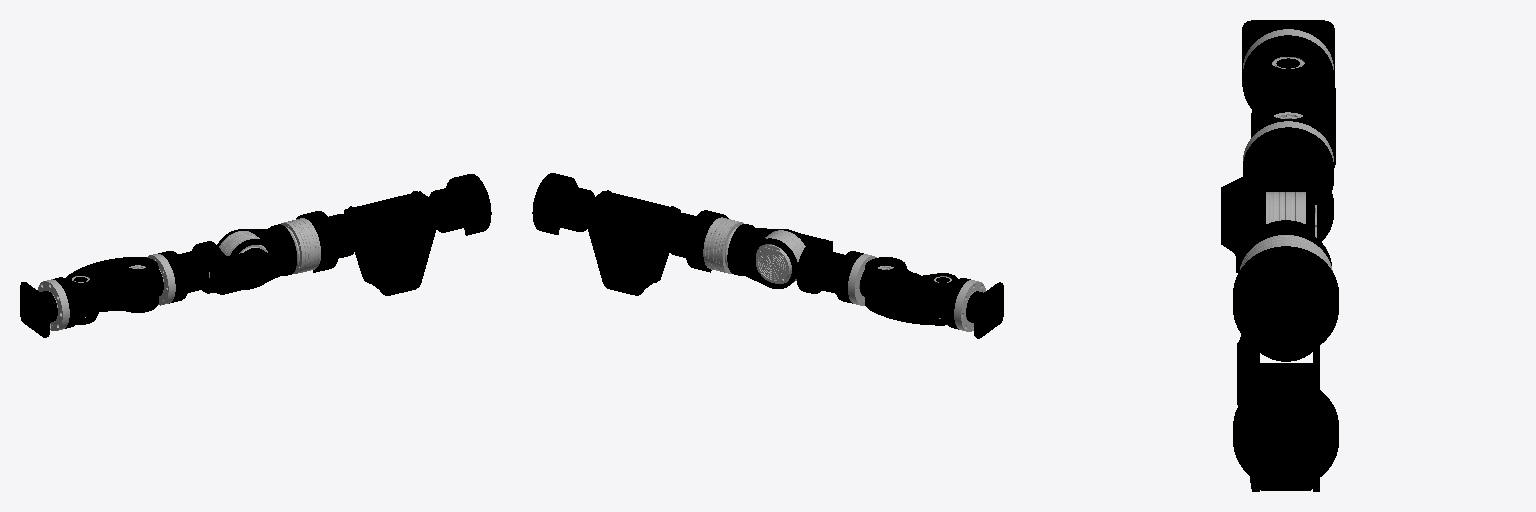
URDF robot description (ikarus_half):
<?xml version="1.0" ?>
<robot name="ikarus_half" xmlns:xacro="http://www.ros.org/wiki/xacro">


<material name="white">
  <color rgba="1 1 1 1"/>
</material>
<material name="silver">
  <color rgba="0.700 0.700 0.700 1.000"/>
</material>
<material name="black">
  <color rgba="0 0 0 1"/>
</material>


<link name="base_link">
  <inertial>
    <origin xyz="8.238675732874815e-09 3.1554667315040733e-10 0.3514903613249077" rpy="0 0 0"/>
    <mass value="4.01349323527168"/>
    <inertia ixx="0.130649" iyy="0.140913" izz="0.011825" ixy="-0.0" iyz="-0.0" ixz="-0.0"/>
  </inertial>
  <visual>
    <origin xyz="0 0 0" rpy="0 0 0"/>
    <geometry>
      <mesh filename="package://ikarus_half_description/meshes/base_link.stl" scale="0.001 0.001 0.001"/>
    </geometry>
    <material name="silver"/>
  </visual>
  <collision>
    <origin xyz="0 0 0" rpy="0 0 0"/>
    <geometry>
      <mesh filename="package://ikarus_half_description/meshes/base_link.stl" scale="0.001 0.001 0.001"/>
    </geometry>
  </collision>
</link>

<link name="icarus_connector_linkR_1">
  <inertial>
    <origin xyz="0.006498765182035293 7.695491105042257e-10 0.002391923234987048" rpy="0 0 0"/>
    <mass value="0.15747427328533634"/>
    <inertia ixx="0.000235" iyy="0.000181" izz="0.000199" ixy="0.0" iyz="-0.0" ixz="7e-06"/>
  </inertial>
  <visual>
    <origin xyz="0.15 -0.0 -0.5225" rpy="0 0 0"/>
    <geometry>
      <mesh filename="package://ikarus_half_description/meshes/icarus_connector_linkR_1.stl" scale="0.001 0.001 0.001"/>
    </geometry>
    <material name="black"/>
  </visual>
  <collision>
    <origin xyz="0.15 -0.0 -0.5225" rpy="0 0 0"/>
    <geometry>
      <mesh filename="package://ikarus_half_description/meshes/icarus_connector_linkR_1.stl" scale="0.001 0.001 0.001"/>
    </geometry>
  </collision>
</link>

<link name="icarus_connector_linkL_1">
  <inertial>
    <origin xyz="-0.0064987161454620745 7.695601847031691e-10 0.002391923234987714" rpy="0 0 0"/>
    <mass value="0.15747427328533634"/>
    <inertia ixx="0.000235" iyy="0.000181" izz="0.000199" ixy="0.0" iyz="0.0" ixz="-7e-06"/>
  </inertial>
  <visual>
    <origin xyz="-0.15 -0.0 -0.5225" rpy="0 0 0"/>
    <geometry>
      <mesh filename="package://ikarus_half_description/meshes/icarus_connector_linkL_1.stl" scale="0.001 0.001 0.001"/>
    </geometry>
    <material name="black"/>
  </visual>
  <collision>
    <origin xyz="-0.15 -0.0 -0.5225" rpy="0 0 0"/>
    <geometry>
      <mesh filename="package://ikarus_half_description/meshes/icarus_connector_linkL_1.stl" scale="0.001 0.001 0.001"/>
    </geometry>
  </collision>
</link>

<link name="panel_link_1">
  <inertial>
    <origin xyz="2.3680088032994594e-05 0.01578227473846023 -0.061042461555197214" rpy="0 0 0"/>
    <mass value="0.1533749620293566"/>
    <inertia ixx="0.000578" iyy="0.000718" izz="0.000445" ixy="0.0" iyz="2e-06" ixz="-0.0"/>
  </inertial>
  <visual>
    <origin xyz="-0.0 0.0129 -0.545" rpy="0 0 0"/>
    <geometry>
      <mesh filename="package://ikarus_half_description/meshes/panel_link_1.stl" scale="0.001 0.001 0.001"/>
    </geometry>
    <material name="black"/>
  </visual>
  <collision>
    <origin xyz="-0.0 0.0129 -0.545" rpy="0 0 0"/>
    <geometry>
      <mesh filename="package://ikarus_half_description/meshes/panel_link_1.stl" scale="0.001 0.001 0.001"/>
    </geometry>
  </collision>
</link>

<link name="motor1_link1R_1">
  <inertial>
    <origin xyz="-0.021857464819254685 3.968559222383009e-05 4.0745153922272515e-05" rpy="0 0 0"/>
    <mass value="2.73842616957922"/>
    <inertia ixx="0.003104" iyy="0.002101" izz="0.002104" ixy="-3e-06" iyz="-0.0" ixz="-3e-06"/>
  </inertial>
  <visual>
    <origin xyz="0.18 -0.0 -0.5225" rpy="0 0 0"/>
    <geometry>
      <mesh filename="package://ikarus_half_description/meshes/motor1_link1R_1.stl" scale="0.001 0.001 0.001"/>
    </geometry>
    <material name="silver"/>
  </visual>
  <collision>
    <origin xyz="0.18 -0.0 -0.5225" rpy="0 0 0"/>
    <geometry>
      <mesh filename="package://ikarus_half_description/meshes/motor1_link1R_1.stl" scale="0.001 0.001 0.001"/>
    </geometry>
  </collision>
</link>

<link name="connector_link2R_1">
  <inertial>
    <origin xyz="-0.030526797904581765 -1.188606087452361e-08 1.5337773384693776e-08" rpy="0 0 0"/>
    <mass value="0.10495230755525947"/>
    <inertia ixx="0.000121" iyy="0.000174" izz="0.00015" ixy="-0.0" iyz="0.0" ixz="-0.0"/>
  </inertial>
  <visual>
    <origin xyz="0.2295 -0.0 -0.5225" rpy="0 0 0"/>
    <geometry>
      <mesh filename="package://ikarus_half_description/meshes/connector_link2R_1.stl" scale="0.001 0.001 0.001"/>
    </geometry>
    <material name="black"/>
  </visual>
  <collision>
    <origin xyz="0.2295 -0.0 -0.5225" rpy="0 0 0"/>
    <geometry>
      <mesh filename="package://ikarus_half_description/meshes/connector_link2R_1.stl" scale="0.001 0.001 0.001"/>
    </geometry>
  </collision>
</link>

<link name="motor2_link3R_1">
  <inertial>
    <origin xyz="3.9708490567891275e-05 0.018942511432002027 -4.0697209780393706e-05" rpy="0 0 0"/>
    <mass value="2.7384261695792333"/>
    <inertia ixx="0.002101" iyy="0.003104" izz="0.002104" ixy="-3e-06" iyz="3e-06" ixz="0.0"/>
  </inertial>
  <visual>
    <origin xyz="0.3165 0.0204 -0.5225" rpy="0 0 0"/>
    <geometry>
      <mesh filename="package://ikarus_half_description/meshes/motor2_link3R_1.stl" scale="0.001 0.001 0.001"/>
    </geometry>
    <material name="silver"/>
  </visual>
  <collision>
    <origin xyz="0.3165 0.0204 -0.5225" rpy="0 0 0"/>
    <geometry>
      <mesh filename="package://ikarus_half_description/meshes/motor2_link3R_1.stl" scale="0.001 0.001 0.001"/>
    </geometry>
  </collision>
</link>

<link name="uaconnector_link4R_1">
  <inertial>
    <origin xyz="-0.03694483347877142 -0.002043388802463235 -2.2067556072480343e-06" rpy="0 0 0"/>
    <mass value="0.10373809220135007"/>
    <inertia ixx="0.000119" iyy="0.00015" izz="0.000176" ixy="3.5e-05" iyz="-0.0" ixz="0.0"/>
  </inertial>
  <visual>
    <origin xyz="0.3165 0.0291 -0.5225" rpy="0 0 0"/>
    <geometry>
      <mesh filename="package://ikarus_half_description/meshes/uaconnector_link4R_1.stl" scale="0.001 0.001 0.001"/>
    </geometry>
    <material name="black"/>
  </visual>
  <collision>
    <origin xyz="0.3165 0.0291 -0.5225" rpy="0 0 0"/>
    <geometry>
      <mesh filename="package://ikarus_half_description/meshes/uaconnector_link4R_1.stl" scale="0.001 0.001 0.001"/>
    </geometry>
  </collision>
</link>

<link name="case_link5R_1">
  <inertial>
    <origin xyz="-0.04555310456096018 -0.0032116715882102463 2.6257147567321226e-08" rpy="0 0 0"/>
    <mass value="0.10350251099857245"/>
    <inertia ixx="0.00014" iyy="0.000169" izz="0.000164" ixy="-1.5e-05" iyz="0.0" ixz="0.0"/>
  </inertial>
  <visual>
    <origin xyz="0.3885 -0.0024 -0.5225" rpy="0 0 0"/>
    <geometry>
      <mesh filename="package://ikarus_half_description/meshes/case_link5R_1.stl" scale="0.001 0.001 0.001"/>
    </geometry>
    <material name="black"/>
  </visual>
  <collision>
    <origin xyz="0.3885 -0.0024 -0.5225" rpy="0 0 0"/>
    <geometry>
      <mesh filename="package://ikarus_half_description/meshes/case_link5R_1.stl" scale="0.001 0.001 0.001"/>
    </geometry>
  </collision>
</link>

<link name="motor3_link6R_1">
  <inertial>
    <origin xyz="0.024939225965647682 0.00010596776875229207 9.870262211997272e-07" rpy="0 0 0"/>
    <mass value="0.9769498564987952"/>
    <inertia ixx="0.000401" iyy="0.000405" izz="0.000407" ixy="-3e-06" iyz="-0.0" ixz="-0.0"/>
  </inertial>
  <visual>
    <origin xyz="0.45805 -0.0024 -0.5225" rpy="0 0 0"/>
    <geometry>
      <mesh filename="package://ikarus_half_description/meshes/motor3_link6R_1.stl" scale="0.001 0.001 0.001"/>
    </geometry>
    <material name="silver"/>
  </visual>
  <collision>
    <origin xyz="0.45805 -0.0024 -0.5225" rpy="0 0 0"/>
    <geometry>
      <mesh filename="package://ikarus_half_description/meshes/motor3_link6R_1.stl" scale="0.001 0.001 0.001"/>
    </geometry>
  </collision>
</link>

<link name="slot_link7R_1">
  <inertial>
    <origin xyz="-0.010808098048693704 -0.014862347727482468 2.4195766612500336e-08" rpy="0 0 0"/>
    <mass value="0.01067094946660519"/>
    <inertia ixx="8e-06" iyy="7e-06" izz="1e-06" ixy="0.0" iyz="0.0" ixz="0.0"/>
  </inertial>
  <visual>
    <origin xyz="0.46555 -0.0499 -0.5225" rpy="0 0 0"/>
    <geometry>
      <mesh filename="package://ikarus_half_description/meshes/slot_link7R_1.stl" scale="0.001 0.001 0.001"/>
    </geometry>
    <material name="black"/>
  </visual>
  <collision>
    <origin xyz="0.46555 -0.0499 -0.5225" rpy="0 0 0"/>
    <geometry>
      <mesh filename="package://ikarus_half_description/meshes/slot_link7R_1.stl" scale="0.001 0.001 0.001"/>
    </geometry>
  </collision>
</link>

<link name="bearingouter_link10R_1">
  <inertial>
    <origin xyz="-0.007629608069833871 7.695533299142965e-10 2.419576583534422e-08" rpy="0 0 0"/>
    <mass value="0.3881951668433359"/>
    <inertia ixx="0.000657" iyy="0.000335" izz="0.000335" ixy="0.0" iyz="-0.0" ixz="-0.0"/>
  </inertial>
  <visual>
    <origin xyz="0.48805 -0.0024 -0.5225" rpy="0 0 0"/>
    <geometry>
      <mesh filename="package://ikarus_half_description/meshes/bearingouter_link10R_1.stl" scale="0.001 0.001 0.001"/>
    </geometry>
    <material name="silver"/>
  </visual>
  <collision>
    <origin xyz="0.48805 -0.0024 -0.5225" rpy="0 0 0"/>
    <geometry>
      <mesh filename="package://ikarus_half_description/meshes/bearingouter_link10R_1.stl" scale="0.001 0.001 0.001"/>
    </geometry>
  </collision>
</link>

<link name="baringattacher_link8R_1">
  <inertial>
    <origin xyz="0.009727205733415123 2.509318952279016e-09 -6.727516910220999e-08" rpy="0 0 0"/>
    <mass value="0.01613078980443655"/>
    <inertia ixx="5e-06" iyy="3e-06" izz="3e-06" ixy="0.0" iyz="0.0" ixz="-0.0"/>
  </inertial>
  <visual>
    <origin xyz="0.48805 -0.0024 -0.5225" rpy="0 0 0"/>
    <geometry>
      <mesh filename="package://ikarus_half_description/meshes/baringattacher_link8R_1.stl" scale="0.001 0.001 0.001"/>
    </geometry>
    <material name="black"/>
  </visual>
  <collision>
    <origin xyz="0.48805 -0.0024 -0.5225" rpy="0 0 0"/>
    <geometry>
      <mesh filename="package://ikarus_half_description/meshes/baringattacher_link8R_1.stl" scale="0.001 0.001 0.001"/>
    </geometry>
  </collision>
</link>

<link name="bearinginner_link9R_1">
  <inertial>
    <origin xyz="0.006500022074495682 7.695536139752657e-10 2.4195767056589546e-08" rpy="0 0 0"/>
    <mass value="0.27223986557227087"/>
    <inertia ixx="0.000191" iyy="0.0001" izz="0.0001" ixy="0.0" iyz="-0.0" ixz="0.0"/>
  </inertial>
  <visual>
    <origin xyz="0.50205 -0.0024 -0.5225" rpy="0 0 0"/>
    <geometry>
      <mesh filename="package://ikarus_half_description/meshes/bearinginner_link9R_1.stl" scale="0.001 0.001 0.001"/>
    </geometry>
    <material name="silver"/>
  </visual>
  <collision>
    <origin xyz="0.50205 -0.0024 -0.5225" rpy="0 0 0"/>
    <geometry>
      <mesh filename="package://ikarus_half_description/meshes/bearinginner_link9R_1.stl" scale="0.001 0.001 0.001"/>
    </geometry>
  </collision>
</link>

<link name="frame1_link11R_1">
  <inertial>
    <origin xyz="-0.08735342300595428 0.014789957251909326 0.0099322522250187" rpy="0 0 0"/>
    <mass value="0.17567366682185706"/>
    <inertia ixx="0.000163" iyy="0.000428" izz="0.000436" ixy="6.1e-05" iyz="3e-06" ixz="2e-05"/>
  </inertial>
  <visual>
    <origin xyz="0.48805 -0.0024 -0.5225" rpy="0 0 0"/>
    <geometry>
      <mesh filename="package://ikarus_half_description/meshes/frame1_link11R_1.stl" scale="0.001 0.001 0.001"/>
    </geometry>
    <material name="black"/>
  </visual>
  <collision>
    <origin xyz="0.48805 -0.0024 -0.5225" rpy="0 0 0"/>
    <geometry>
      <mesh filename="package://ikarus_half_description/meshes/frame1_link11R_1.stl" scale="0.001 0.001 0.001"/>
    </geometry>
  </collision>
</link>

<link name="motor4_link13R_1">
  <inertial>
    <origin xyz="9.820238224822475e-07 0.0001059697281937627 -0.024939176523008477" rpy="0 0 0"/>
    <mass value="0.9769498564987971"/>
    <inertia ixx="0.000407" iyy="0.000405" izz="0.000401" ixy="-0.0" iyz="3e-06" ixz="0.0"/>
  </inertial>
  <visual>
    <origin xyz="0.54155 -0.0024 -0.552" rpy="0 0 0"/>
    <geometry>
      <mesh filename="package://ikarus_half_description/meshes/motor4_link13R_1.stl" scale="0.001 0.001 0.001"/>
    </geometry>
    <material name="silver"/>
  </visual>
  <collision>
    <origin xyz="0.54155 -0.0024 -0.552" rpy="0 0 0"/>
    <geometry>
      <mesh filename="package://ikarus_half_description/meshes/motor4_link13R_1.stl" scale="0.001 0.001 0.001"/>
    </geometry>
  </collision>
</link>

<link name="frame2_link12R_1">
  <inertial>
    <origin xyz="0.011932252870944127 0.12522967487047618 0.0010753844053042472" rpy="0 0 0"/>
    <mass value="0.06832532468162396"/>
    <inertia ixx="3.9e-05" iyy="0.000144" izz="0.000171" ixy="1.8e-05" iyz="-5e-06" ixz="2e-06"/>
  </inertial>
  <visual>
    <origin xyz="0.592816 0.109986 -0.490521" rpy="0 0 0"/>
    <geometry>
      <mesh filename="package://ikarus_half_description/meshes/frame2_link12R_1.stl" scale="0.001 0.001 0.001"/>
    </geometry>
    <material name="black"/>
  </visual>
  <collision>
    <origin xyz="0.592816 0.109986 -0.490521" rpy="0 0 0"/>
    <geometry>
      <mesh filename="package://ikarus_half_description/meshes/frame2_link12R_1.stl" scale="0.001 0.001 0.001"/>
    </geometry>
  </collision>
</link>

<link name="outerbearing_link18R_1">
  <inertial>
    <origin xyz="-0.007370347781175068 7.695541101061798e-10 2.419576594636652e-08" rpy="0 0 0"/>
    <mass value="0.38819516684333627"/>
    <inertia ixx="0.000657" iyy="0.000335" izz="0.000335" ixy="0.0" iyz="-0.0" ixz="0.0"/>
  </inertial>
  <visual>
    <origin xyz="0.71405 -0.0024 -0.5225" rpy="0 0 0"/>
    <geometry>
      <mesh filename="package://ikarus_half_description/meshes/outerbearing_link18R_1.stl" scale="0.001 0.001 0.001"/>
    </geometry>
    <material name="silver"/>
  </visual>
  <collision>
    <origin xyz="0.71405 -0.0024 -0.5225" rpy="0 0 0"/>
    <geometry>
      <mesh filename="package://ikarus_half_description/meshes/outerbearing_link18R_1.stl" scale="0.001 0.001 0.001"/>
    </geometry>
  </collision>
</link>

<link name="motor5_link17R_1">
  <inertial>
    <origin xyz="0.020259091684466157 9.584692532982678e-05 9.55805947803201e-05" rpy="0 0 0"/>
    <mass value="0.7753717946682805"/>
    <inertia ixx="0.00032" iyy="0.000267" izz="0.000267" ixy="-2e-06" iyz="-1e-06" ixz="-2e-06"/>
  </inertial>
  <visual>
    <origin xyz="0.69305 -0.0024 -0.5225" rpy="0 0 0"/>
    <geometry>
      <mesh filename="package://ikarus_half_description/meshes/motor5_link17R_1.stl" scale="0.001 0.001 0.001"/>
    </geometry>
    <material name="silver"/>
  </visual>
  <collision>
    <origin xyz="0.69305 -0.0024 -0.5225" rpy="0 0 0"/>
    <geometry>
      <mesh filename="package://ikarus_half_description/meshes/motor5_link17R_1.stl" scale="0.001 0.001 0.001"/>
    </geometry>
  </collision>
</link>

<link name="bearingright_link14R_1">
  <inertial>
    <origin xyz="2.2074495675816763e-08 7.695540207679208e-10 0.0035000310029996706" rpy="0 0 0"/>
    <mass value="0.027522236601038728"/>
    <inertia ixx="4e-06" iyy="4e-06" izz="7e-06" ixy="-0.0" iyz="-0.0" ixz="0.0"/>
  </inertial>
  <visual>
    <origin xyz="0.66305 -0.0024 -0.554479" rpy="0 0 0"/>
    <geometry>
      <mesh filename="package://ikarus_half_description/meshes/bearingright_link14R_1.stl" scale="0.001 0.001 0.001"/>
    </geometry>
    <material name="silver"/>
  </visual>
  <collision>
    <origin xyz="0.66305 -0.0024 -0.554479" rpy="0 0 0"/>
    <geometry>
      <mesh filename="package://ikarus_half_description/meshes/bearingright_link14R_1.stl" scale="0.001 0.001 0.001"/>
    </geometry>
  </collision>
</link>

<link name="innerbearing_link20R_1">
  <inertial>
    <origin xyz="0.006500022074495848 7.695541135756268e-10 2.419576583534422e-08" rpy="0 0 0"/>
    <mass value="0.27223986557227076"/>
    <inertia ixx="0.000191" iyy="0.0001" izz="0.0001" ixy="0.0" iyz="-0.0" ixz="0.0"/>
  </inertial>
  <visual>
    <origin xyz="0.72805 -0.0024 -0.5225" rpy="0 0 0"/>
    <geometry>
      <mesh filename="package://ikarus_half_description/meshes/innerbearing_link20R_1.stl" scale="0.001 0.001 0.001"/>
    </geometry>
    <material name="silver"/>
  </visual>
  <collision>
    <origin xyz="0.72805 -0.0024 -0.5225" rpy="0 0 0"/>
    <geometry>
      <mesh filename="package://ikarus_half_description/meshes/innerbearing_link20R_1.stl" scale="0.001 0.001 0.001"/>
    </geometry>
  </collision>
</link>

<link name="bearingleft_link16R_1">
  <inertial>
    <origin xyz="2.2074495786839066e-08 7.695543954681916e-10 -0.003499982611467334" rpy="0 0 0"/>
    <mass value="0.027522236601038783"/>
    <inertia ixx="4e-06" iyy="4e-06" izz="7e-06" ixy="-0.0" iyz="-0.0" ixz="0.0"/>
  </inertial>
  <visual>
    <origin xyz="0.66305 -0.0024 -0.490521" rpy="0 0 0"/>
    <geometry>
      <mesh filename="package://ikarus_half_description/meshes/bearingleft_link16R_1.stl" scale="0.001 0.001 0.001"/>
    </geometry>
    <material name="silver"/>
  </visual>
  <collision>
    <origin xyz="0.66305 -0.0024 -0.490521" rpy="0 0 0"/>
    <geometry>
      <mesh filename="package://ikarus_half_description/meshes/bearingleft_link16R_1.stl" scale="0.001 0.001 0.001"/>
    </geometry>
  </collision>
</link>

<link name="elbowconnector_link15R_1">
  <inertial>
    <origin xyz="-0.024946179570467297 -5.457518240972259e-05 -0.0385541344982111" rpy="0 0 0"/>
    <mass value="0.059039507618904356"/>
    <inertia ixx="7.9e-05" iyy="5.8e-05" izz="5.9e-05" ixy="0.0" iyz="0.0" ixz="-1e-06"/>
  </inertial>
  <visual>
    <origin xyz="0.66305 -0.0024 -0.561479" rpy="0 0 0"/>
    <geometry>
      <mesh filename="package://ikarus_half_description/meshes/elbowconnector_link15R_1.stl" scale="0.001 0.001 0.001"/>
    </geometry>
    <material name="black"/>
  </visual>
  <collision>
    <origin xyz="0.66305 -0.0024 -0.561479" rpy="0 0 0"/>
    <geometry>
      <mesh filename="package://ikarus_half_description/meshes/elbowconnector_link15R_1.stl" scale="0.001 0.001 0.001"/>
    </geometry>
  </collision>
</link>

<link name="handconnector_link21R_1">
  <inertial>
    <origin xyz="-0.013822435412159217 -5.0687373962135344e-06 2.4157804590085874e-07" rpy="0 0 0"/>
    <mass value="0.06934651168813166"/>
    <inertia ixx="5.6e-05" iyy="5.3e-05" izz="5.8e-05" ixy="-0.0" iyz="0.0" ixz="0.0"/>
  </inertial>
  <visual>
    <origin xyz="0.72905 -0.0024 -0.5225" rpy="0 0 0"/>
    <geometry>
      <mesh filename="package://ikarus_half_description/meshes/handconnector_link21R_1.stl" scale="0.001 0.001 0.001"/>
    </geometry>
    <material name="black"/>
  </visual>
  <collision>
    <origin xyz="0.72905 -0.0024 -0.5225" rpy="0 0 0"/>
    <geometry>
      <mesh filename="package://ikarus_half_description/meshes/handconnector_link21R_1.stl" scale="0.001 0.001 0.001"/>
    </geometry>
  </collision>
</link>

<joint name="Rigid 1" type="fixed">
  <origin xyz="-0.15 0.0 0.5225" rpy="0 0 0"/>
  <parent link="base_link"/>
  <child link="icarus_connector_linkR_1"/>
</joint>

<joint name="Rigid 2" type="fixed">
  <origin xyz="0.15 0.0 0.5225" rpy="0 0 0"/>
  <parent link="base_link"/>
  <child link="icarus_connector_linkL_1"/>
</joint>

<joint name="Rigid 3" type="fixed">
  <origin xyz="0.0 -0.0129 0.545" rpy="0 0 0"/>
  <parent link="base_link"/>
  <child link="panel_link_1"/>
</joint>

<joint name="Rigid 4" type="fixed">
  <origin xyz="-0.03 0.0 0.0" rpy="0 0 0"/>
  <parent link="icarus_connector_linkR_1"/>
  <child link="motor1_link1R_1"/>
</joint>

<joint name="Shoulder1R" type="continuous">
  <origin xyz="-0.0495 0.0 0.0" rpy="0 0 0"/>
  <parent link="motor1_link1R_1"/>
  <child link="connector_link2R_1"/>
  <axis xyz="1.0 -0.0 0.0"/>
</joint>

<joint name="Rigid 6" type="fixed">
  <origin xyz="-0.087 -0.0204 0.0" rpy="0 0 0"/>
  <parent link="connector_link2R_1"/>
  <child link="motor2_link3R_1"/>
</joint>

<joint name="Shoulder2R" type="revolute">
  <origin xyz="0.0 -0.0087 0.0" rpy="0 0 0"/>
  <parent link="motor2_link3R_1"/>
  <child link="uaconnector_link4R_1"/>
  <axis xyz="0.0 1.0 0.0"/>
  <limit upper="1.832596" lower="-1.832596" effort="100" velocity="100"/>
</joint>

<joint name="Rigid 8" type="fixed">
  <origin xyz="-0.072 0.0315 0.0" rpy="0 0 0"/>
  <parent link="uaconnector_link4R_1"/>
  <child link="case_link5R_1"/>
</joint>

<joint name="Rigid 9" type="fixed">
  <origin xyz="-0.06955 0.0 0.0" rpy="0 0 0"/>
  <parent link="case_link5R_1"/>
  <child link="motor3_link6R_1"/>
</joint>

<joint name="Rigid 10" type="fixed">
  <origin xyz="-0.07705 0.0475 0.0" rpy="0 0 0"/>
  <parent link="case_link5R_1"/>
  <child link="slot_link7R_1"/>
</joint>

<joint name="Rigid 11" type="fixed">
  <origin xyz="-0.09955 0.0 0.0" rpy="0 0 0"/>
  <parent link="case_link5R_1"/>
  <child link="bearingouter_link10R_1"/>
</joint>

<joint name="Rigid 12" type="fixed">
  <origin xyz="0.014 0.0 0.0" rpy="0 0 0"/>
  <parent link="bearinginner_link9R_1"/>
  <child link="baringattacher_link8R_1"/>
</joint>

<joint name="Shoulder3R" type="continuous">
  <origin xyz="-0.014 0.0 0.0" rpy="0 0 0"/>
  <parent link="bearingouter_link10R_1"/>
  <child link="bearinginner_link9R_1"/>
  <axis xyz="1.0 0.0 0.0"/>
</joint>

<joint name="Rigid 14" type="fixed">
  <origin xyz="0.014 0.0 0.0" rpy="0 0 0"/>
  <parent link="bearinginner_link9R_1"/>
  <child link="frame1_link11R_1"/>
</joint>

<joint name="Rigid 15" type="fixed">
  <origin xyz="-0.0535 0.0 0.0295" rpy="0 0 0"/>
  <parent link="frame1_link11R_1"/>
  <child link="motor4_link13R_1"/>
</joint>

<joint name="Rigid 16" type="fixed">
  <origin xyz="-0.104766 -0.112386 -0.031979" rpy="0 0 0"/>
  <parent link="frame1_link11R_1"/>
  <child link="frame2_link12R_1"/>
</joint>

<joint name="Rigid 22" type="fixed">
  <origin xyz="-0.051 0.0 -0.038979" rpy="0 0 0"/>
  <parent link="elbowconnector_link15R_1"/>
  <child link="outerbearing_link18R_1"/>
</joint>

<joint name="Rigid 23" type="fixed">
  <origin xyz="-0.03 0.0 -0.038979" rpy="0 0 0"/>
  <parent link="elbowconnector_link15R_1"/>
  <child link="motor5_link17R_1"/>
</joint>

<joint name="ElbowR" type="revolute">
  <origin xyz="-0.175 0.0 0.031979" rpy="0 0 0"/>
  <parent link="frame1_link11R_1"/>
  <child link="bearingright_link14R_1"/>
  <axis xyz="0.0 0.0 -1.0"/>
  <limit upper="0.610865" lower="-2.356194" effort="100" velocity="100"/>
</joint>

<joint name="uaR" type="continuous">
  <origin xyz="-0.014 0.0 0.0" rpy="0 0 0"/>
  <parent link="outerbearing_link18R_1"/>
  <child link="innerbearing_link20R_1"/>
  <axis xyz="1.0 0.0 0.0"/>
</joint>

<joint name="Rigid 28" type="fixed">
  <origin xyz="-0.070234 0.112386 0.0" rpy="0 0 0"/>
  <parent link="frame2_link12R_1"/>
  <child link="bearingleft_link16R_1"/>
</joint>

<joint name="Rigid 29" type="fixed">
  <origin xyz="0.0 0.0 0.007" rpy="0 0 0"/>
  <parent link="bearingright_link14R_1"/>
  <child link="elbowconnector_link15R_1"/>
</joint>

<joint name="Rigid 30" type="fixed">
  <origin xyz="-0.001 0.0 0.0" rpy="0 0 0"/>
  <parent link="innerbearing_link20R_1"/>
  <child link="handconnector_link21R_1"/>
</joint>

</robot>

--- Render facts (derived) ---
3 views of the same robot in one strip: view 1: azimuth 30°, elevation 25°; view 2: azimuth 150°, elevation 25°; view 3: azimuth 270°, elevation 25° (orthographic).
Robot: ikarus_half — 24 links, 23 joints (2 revolute, 3 continuous, 18 fixed); root link base_link; default pose: all joints at 0.
Links seen in each view (by area): view 1: panel_link_1, frame1_link11R_1, icarus_connector_linkL_1, case_link5R_1, uaconnector_link4R_1, icarus_connector_linkR_1, connector_link2R_1, handconnector_link21R_1, motor1_link1R_1, elbowconnector_link15R_1, outerbearing_link18R_1, bearingouter_link10R_1 (+1 smaller); view 2: panel_link_1, frame1_link11R_1, icarus_connector_linkL_1, connector_link2R_1, icarus_connector_linkR_1, case_link5R_1, motor2_link3R_1, handconnector_link21R_1, motor1_link1R_1, elbowconnector_link15R_1, outerbearing_link18R_1, bearingouter_link10R_1; view 3: icarus_connector_linkL_1, icarus_connector_linkR_1, panel_link_1, uaconnector_link4R_1, frame1_link11R_1, case_link5R_1, elbowconnector_link15R_1, handconnector_link21R_1, connector_link2R_1, motor2_link3R_1, motor1_link1R_1, outerbearing_link18R_1 (+1 smaller).
Link boxes in pixels (x1,y1,x2,y2): panel_link_1: [344, 191, 440, 295]; frame1_link11R_1: [65, 257, 163, 311]; icarus_connector_linkL_1: [429, 174, 491, 235]; case_link5R_1: [159, 242, 221, 303]; uaconnector_link4R_1: [207, 241, 274, 294]; icarus_connector_linkR_1: [296, 211, 355, 272]; connector_link2R_1: [217, 224, 296, 289]; handconnector_link21R_1: [20, 282, 57, 337]; motor1_link1R_1: [281, 218, 320, 273]; elbowconnector_link15R_1: [53, 277, 95, 328]; outerbearing_link18R_1: [38, 279, 69, 330]; bearingouter_link10R_1: [147, 254, 175, 305]; panel_link_1: [583, 190, 680, 295]; frame1_link11R_1: [860, 257, 957, 320]; icarus_connector_linkL_1: [532, 173, 594, 234]; connector_link2R_1: [727, 224, 807, 288]; icarus_connector_linkR_1: [668, 210, 728, 272]; case_link5R_1: [801, 243, 863, 301]; motor2_link3R_1: [756, 230, 805, 283]; handconnector_link21R_1: [966, 282, 1003, 338]; motor1_link1R_1: [703, 217, 743, 273]; elbowconnector_link15R_1: [927, 277, 970, 329]; outerbearing_link18R_1: [954, 280, 985, 331]; bearingouter_link10R_1: [848, 254, 876, 305]; icarus_connector_linkL_1: [1233, 373, 1338, 485]; icarus_connector_linkR_1: [1233, 246, 1338, 361]; panel_link_1: [1237, 307, 1319, 491]; uaconnector_link4R_1: [1221, 168, 1333, 272]; frame1_link11R_1: [1251, 51, 1335, 163]; case_link5R_1: [1243, 127, 1333, 201]; elbowconnector_link15R_1: [1243, 35, 1333, 109]; handconnector_link21R_1: [1242, 20, 1334, 96]; connector_link2R_1: [1240, 192, 1331, 265]; motor2_link3R_1: [1266, 192, 1316, 237]; motor1_link1R_1: [1240, 235, 1332, 270]; outerbearing_link18R_1: [1243, 29, 1333, 69].
Size in the robot's own frame: 0.9491 by 0.1226 by 0.1825 metres.
Meshes: 24 distinct files referenced, 22 mesh visuals loaded (22 binary STL); not drawn: 2 (reference not matched to a file when rendering).